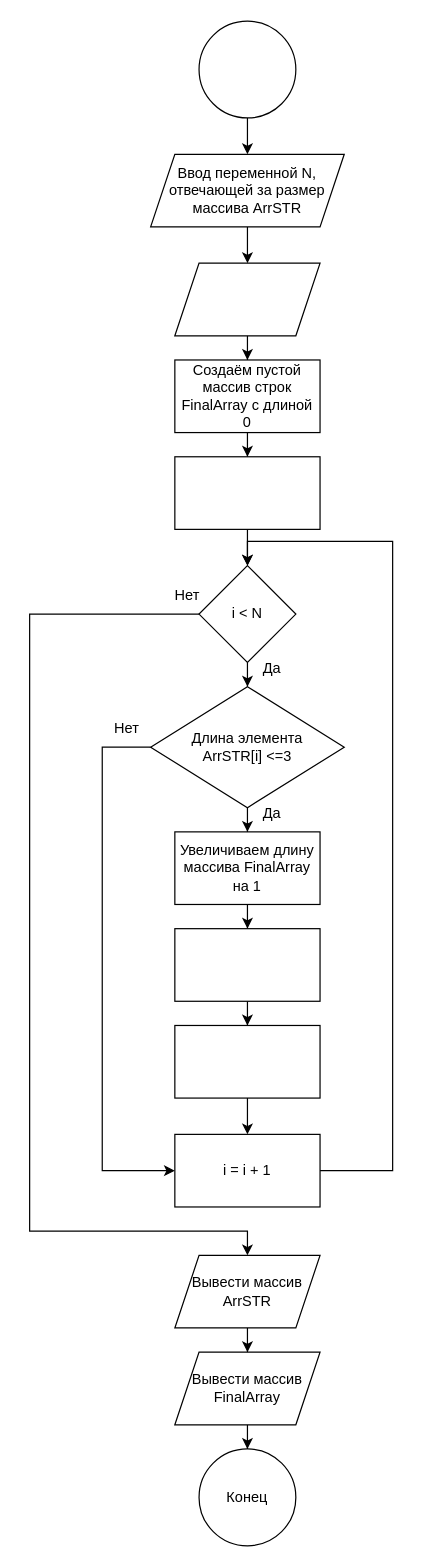
The diagram is 424 pixels wide and 1567 high, and some of its shapes have lost their labels. Here are the shapes that lost their labels. From the top down, the centre of each, then its label:
point (247, 69): Начало
point (247, 299): Ввод массива строк ArrSTR
point (247, 492): ArrSTR i = 0 j = 0
point (247, 964): FinalArray[j] = ArrSTR[i]
point (247, 1061): j = j + 1
